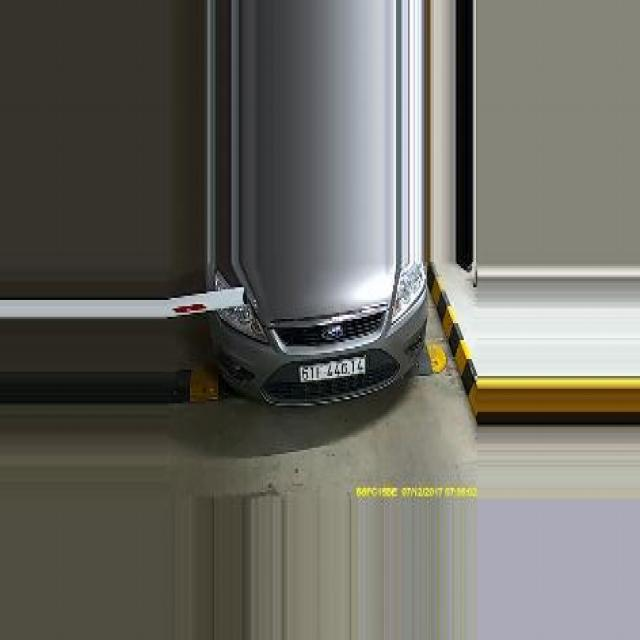License-Plates: (296, 351, 369, 388)
